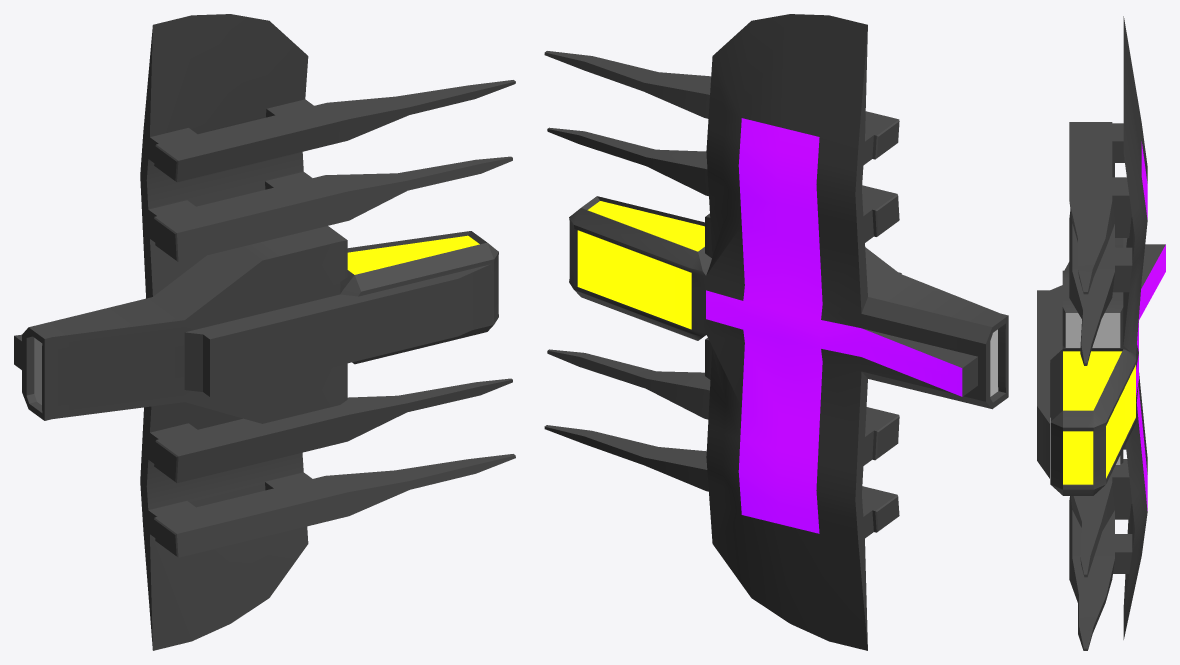
The model's file is enemy ship purple.fbx.
3 views of the same model, side by side, from view 1: azimuth 30°, elevation 25°; view 2: azimuth 150°, elevation 25°; view 3: azimuth 270°, elevation 25° (orthographic). The views are drawn at different scales.
Visible parts, largest first — view 1: EnemyShipPurple; view 2: EnemyShipPurple; view 3: EnemyShipPurple.
Boxes of the visible parts, x1,y1,x2,y2 form: EnemyShipPurple: (14, 14, 515, 650); EnemyShipPurple: (544, 14, 1008, 650); EnemyShipPurple: (1037, 16, 1165, 650).
Bounding box in the file's own units: 1200 × 1539 × 301.
